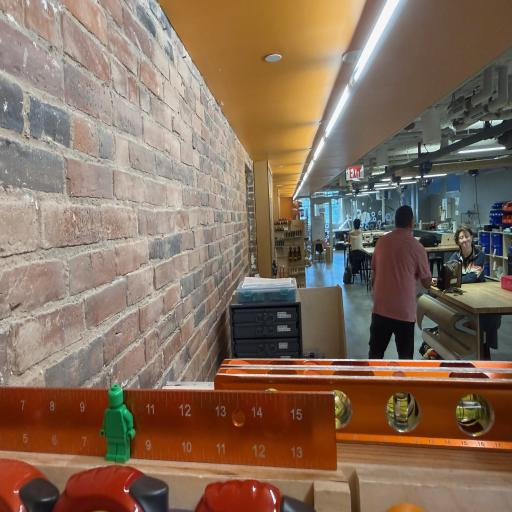Lego-Dude: (100, 384, 135, 463)
